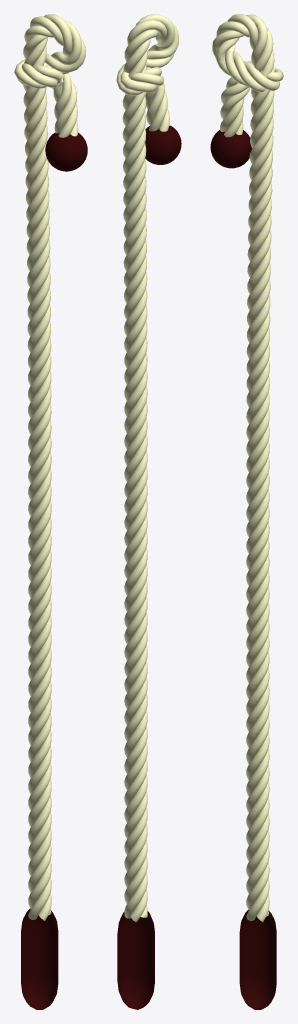
The model's file is cord.glb.
3 renders of one model, left to right at view 1: azimuth 90°, elevation 25°; view 2: azimuth 150°, elevation 25°; view 3: azimuth 270°, elevation 25°, orthographic.
Parts seen in each view (by area): view 1: fullCord; view 2: fullCord; view 3: fullCord.
Part boxes in pixels (x1,y1,x2,y2): fullCord: (14,14,87,1009); fullCord: (116,14,181,1009); fullCord: (210,14,283,1009).
Bounding box in the file's own units: 0.0687 × 1.44 × 0.0962.
